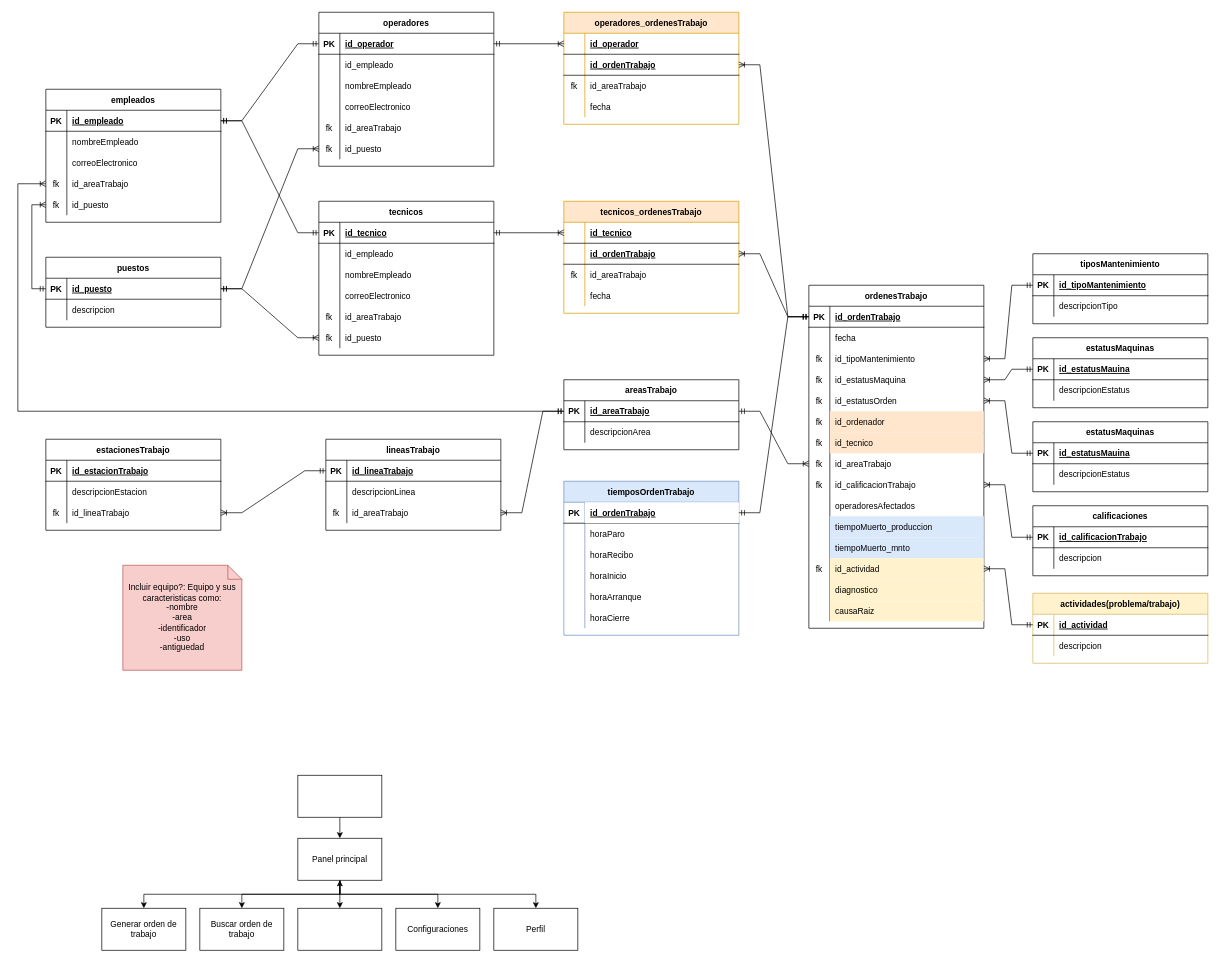
Image size: 1220x963. Some labels were removed from this diagram. Each missing label, with the centre of its shape:
"Generar reporte" belongs at (x=339, y=929).
"Inicio" belongs at (x=339, y=796).
